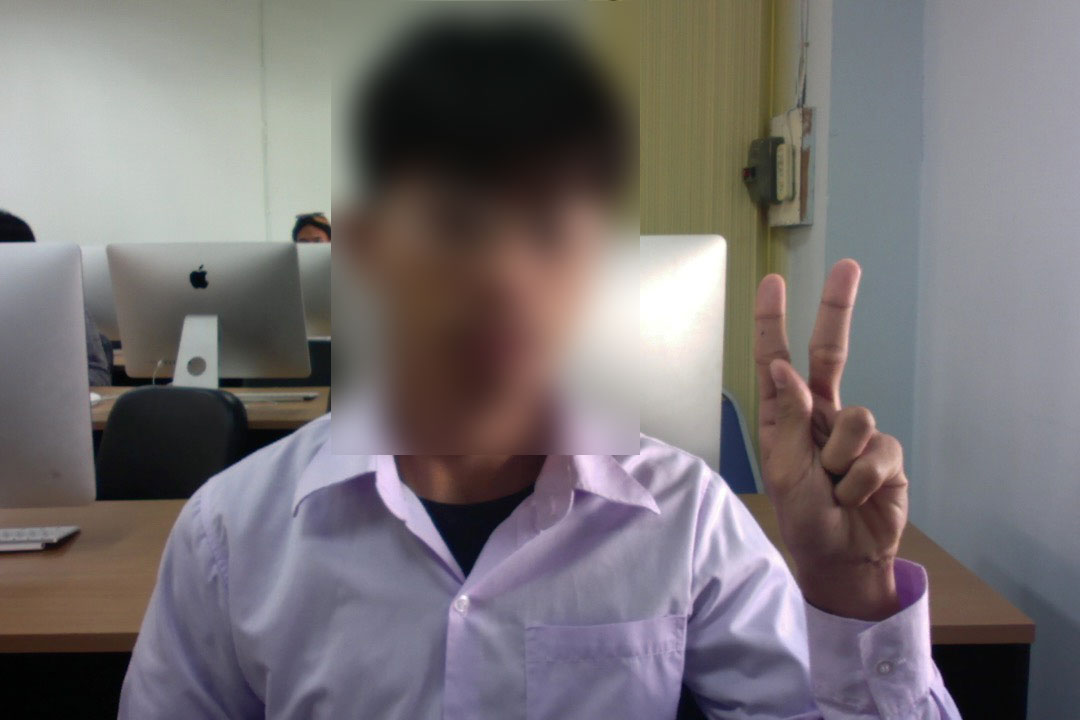ko: (738, 250, 918, 590)
